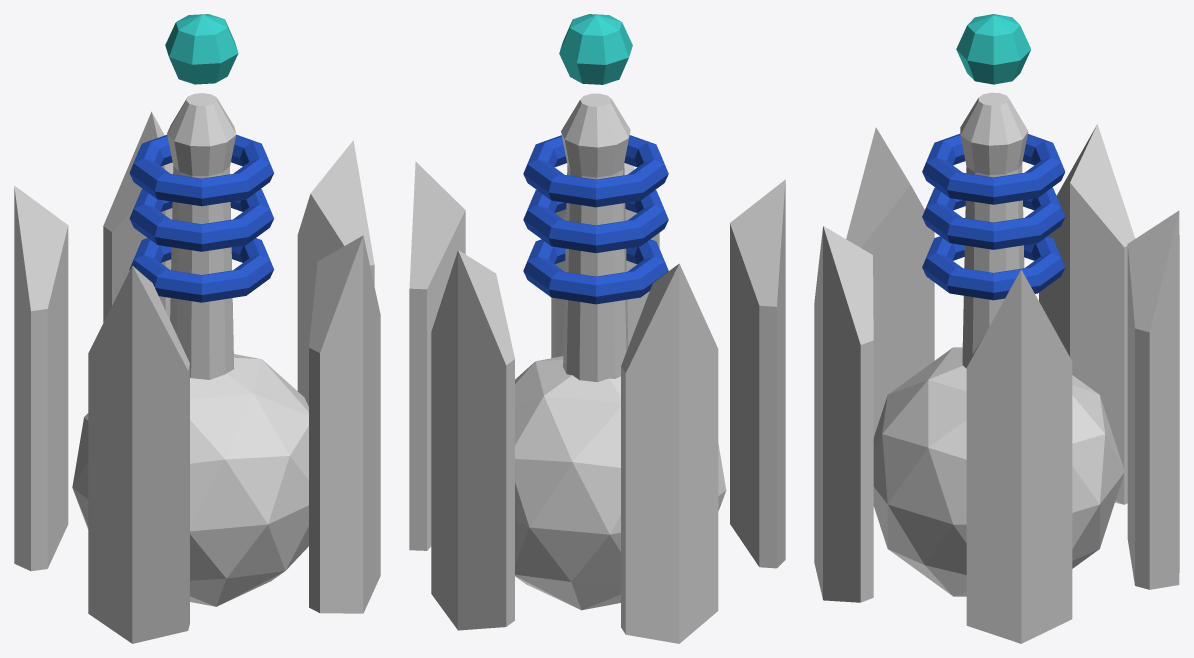
The model's file is Shield1.fbx.
3 views of the same model, side by side, from view 1: azimuth 30°, elevation 25°; view 2: azimuth 150°, elevation 25°; view 3: azimuth 270°, elevation 25° (orthographic).
Parts seen in each view (by area): view 1: Shield 1; view 2: Shield 1; view 3: Shield 1.
Part boxes in pixels (x1,y1,x2,y2): Shield 1: [14, 14, 380, 643]; Shield 1: [409, 14, 785, 643]; Shield 1: [814, 14, 1179, 643].
Bounding box in the file's own units: 104 × 185 × 107.
